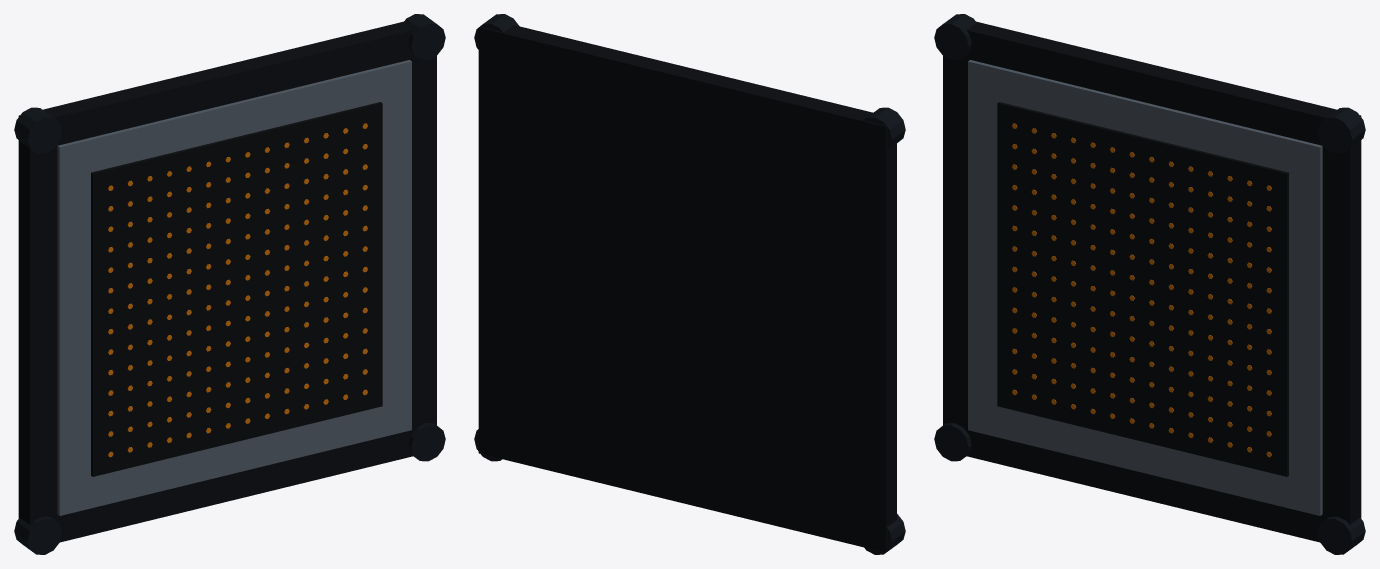
File: 118_L106_CPU_Socket_Frame.obj
3 renders of one model, left to right at view 1: azimuth 30°, elevation 25°; view 2: azimuth 150°, elevation 25°; view 3: azimuth 330°, elevation 25°, orthographic.
Parts seen in each view (by area): view 1: BLACK, PLASTIC, ALUMINUM, DARK_METAL, GOLD; view 2: PLASTIC, DARK_METAL; view 3: BLACK, PLASTIC, ALUMINUM, DARK_METAL, GOLD.
Part boxes in pixels (<box>): BLACK: <box>91,102,382,476</box>; PLASTIC: <box>18,21,436,542</box>; ALUMINUM: <box>57,60,411,515</box>; DARK_METAL: <box>14,14,445,554</box>; GOLD: <box>108,123,367,457</box>; PLASTIC: <box>478,25,896,552</box>; DARK_METAL: <box>474,14,905,554</box>; BLACK: <box>997,102,1288,476</box>; PLASTIC: <box>943,21,1361,542</box>; ALUMINUM: <box>968,60,1322,515</box>; DARK_METAL: <box>934,14,1365,554</box>; GOLD: <box>1012,123,1271,457</box>.
Size of the model in its own units: 0.0534 by 0.0534 by 0.00352.
